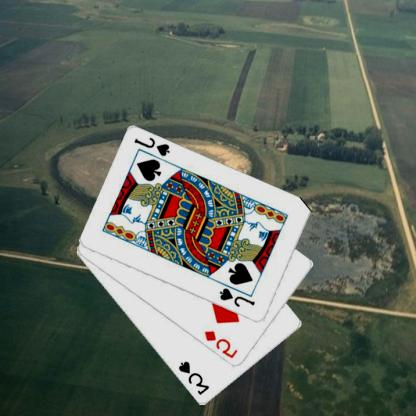3S: (177, 358, 212, 397)
5D: (204, 328, 240, 360)
JS: (133, 135, 173, 158), (218, 286, 258, 308)
